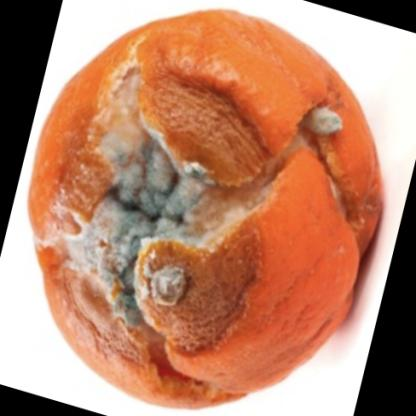rotten: (29, 8, 386, 410)
